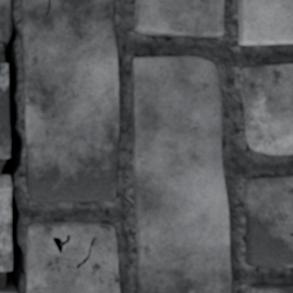brick: (131, 57, 230, 292), (22, 0, 118, 201), (26, 222, 119, 292), (240, 64, 292, 154), (244, 176, 292, 266), (135, 0, 223, 36), (238, 0, 292, 44), (0, 176, 11, 270), (0, 63, 9, 157), (0, 0, 10, 40), (247, 284, 292, 292), (0, 290, 16, 292)
crack: (0, 2, 26, 290)
